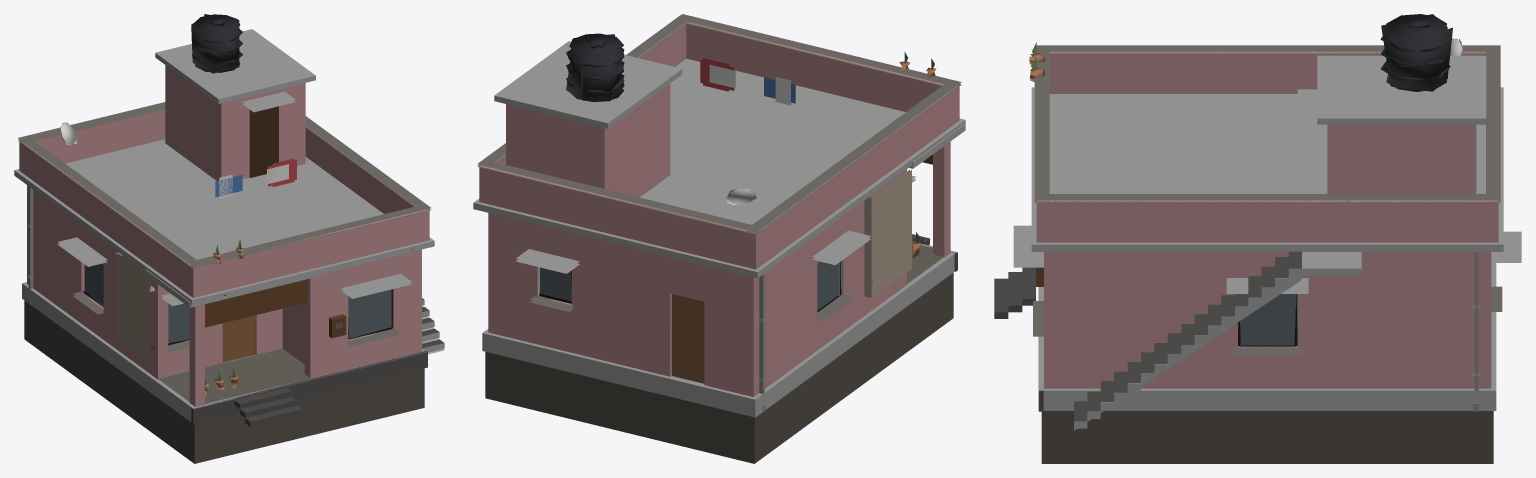
Rendered from tn_house_7x9_1_far.glb.
3 views of the same model, side by side, from view 1: azimuth 30°, elevation 25°; view 2: azimuth 150°, elevation 25°; view 3: azimuth 270°, elevation 25° (orthographic). The views are drawn at different scales.
Visible parts, largest first — view 1: tn_house_7x9_1; view 2: tn_house_7x9_1; view 3: tn_house_7x9_1.
Boxes of the visible parts, x1,y1,x2,y2 form: tn_house_7x9_1: (14,14,444,463); tn_house_7x9_1: (473,14,965,463); tn_house_7x9_1: (994,14,1521,463).
Bounding box in the file's own units: 8.66 × 8.85 × 10.61.
